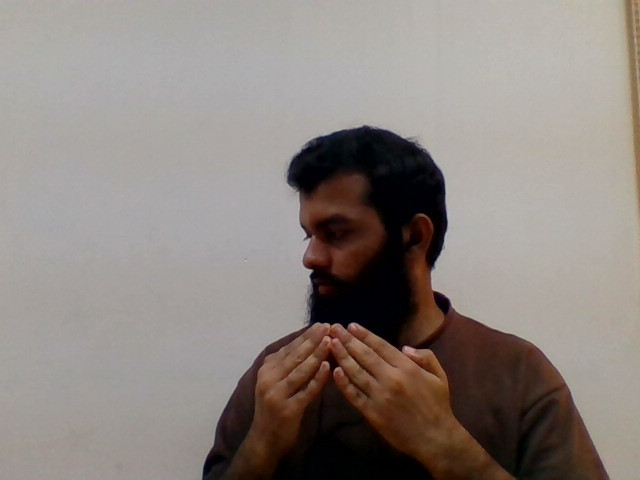Thank You: (237, 312, 471, 446)
